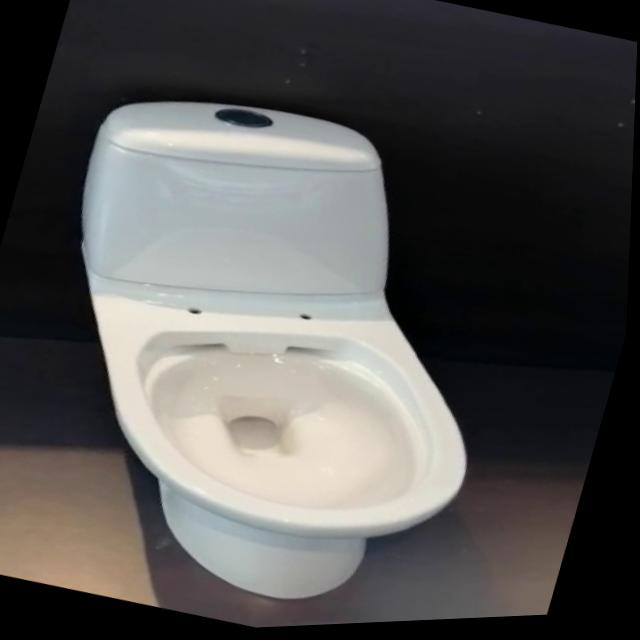toilet: (0, 58, 558, 640)
